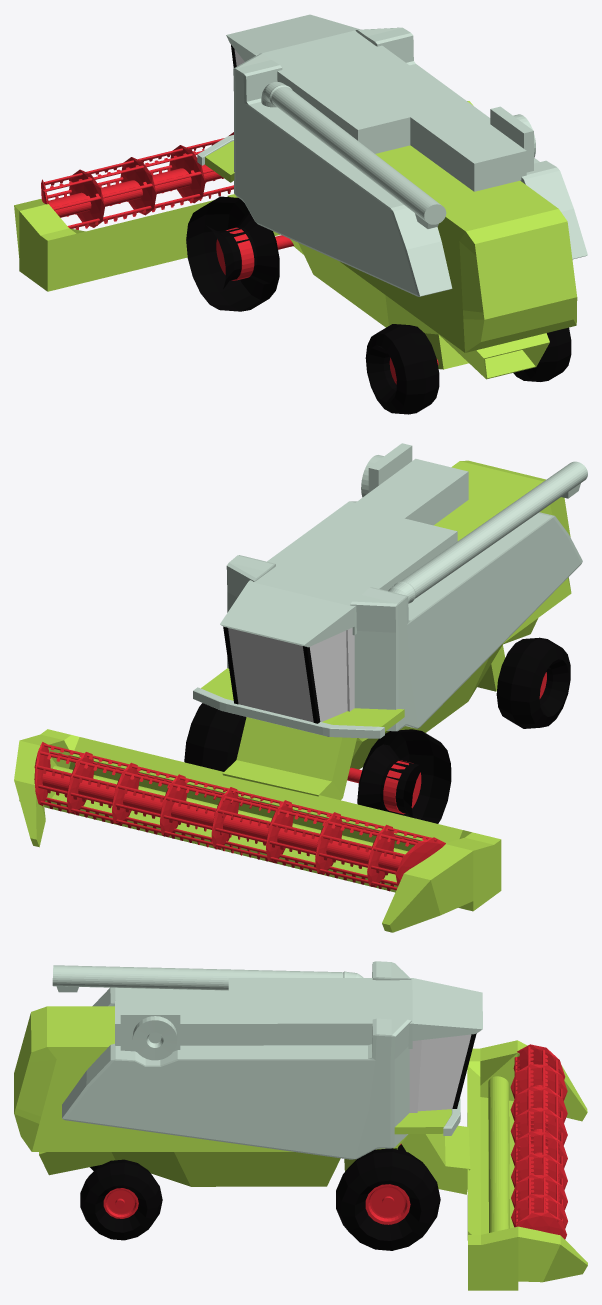
Rendered from combine V5.fbx.
3 views of the same model, one above another, from view 1: azimuth 30°, elevation 25°; view 2: azimuth 150°, elevation 25°; view 3: azimuth 270°, elevation 25° (orthographic). The views are drawn at different scales.
Parts seen in each view (by area): view 1: chassis, side panels, roof and tank doors, header main part, wheel front right, tynes 1.007, wheel back right, feeder arm, wheel back left, fan background; view 2: side panels, roof and tank doors, header main part, tynes 1.007, chassis, wheel front right, windshield, wheel back right, feeder arm, wheel front left, glass right side, front bevel (+3 smaller); view 3: side panels, chassis, roof and tank doors, header main part, tynes 1.007, wheel front left, wheel back left, feeder arm, feeder cylinder, glass left side, fan, fan background (+1 smaller).
Part boxes in pixels (x1=…): chassis: x1=205, y1=141, x2=577, y2=379; side panels: x1=233, y1=27, x2=587, y2=296; roof and tank doors: x1=226, y1=14, x2=526, y2=191; header main part: x1=14, y1=101, x2=473, y2=291; wheel front right: x1=186, y1=196, x2=279, y2=311; tynes 1.007: x1=41, y1=132, x2=233, y2=229; wheel back right: x1=365, y1=324, x2=439, y2=414; feeder arm: x1=261, y1=82, x2=446, y2=228; wheel back left: x1=513, y1=327, x2=571, y2=381; fan background: x1=490, y1=106, x2=533, y2=172; side panels: x1=226, y1=501, x2=582, y2=731; roof and tank doors: x1=220, y1=458, x2=468, y2=647; header main part: x1=14, y1=729, x2=501, y2=932; tynes 1.007: x1=34, y1=742, x2=445, y2=891; chassis: x1=201, y1=460, x2=571, y2=800; wheel front right: x1=357, y1=729, x2=451, y2=823; windshield: x1=228, y1=628, x2=313, y2=722; wheel back right: x1=496, y1=637, x2=570, y2=728; feeder arm: x1=388, y1=461, x2=587, y2=603; wheel front left: x1=184, y1=703, x2=246, y2=771; glass right side: x1=309, y1=630, x2=347, y2=721; front bevel: x1=193, y1=687, x2=384, y2=738; side panels: x1=62, y1=961, x2=411, y2=1159; chassis: x1=14, y1=1006, x2=470, y2=1194; roof and tank doors: x1=115, y1=978, x2=482, y2=1048; header main part: x1=467, y1=1040, x2=587, y2=1290; tynes 1.007: x1=510, y1=1044, x2=567, y2=1239; wheel front left: x1=336, y1=1148, x2=440, y2=1250; wheel back left: x1=80, y1=1159, x2=162, y2=1240; feeder arm: x1=52, y1=965, x2=363, y2=992; feeder cylinder: x1=488, y1=1076, x2=509, y2=1232; glass left side: x1=417, y1=1034, x2=471, y2=1111; fan: x1=132, y1=1016, x2=177, y2=1060; fan background: x1=120, y1=1010, x2=180, y2=1051.
Bounding box in the file's own units: 1849 × 981 × 2281.
